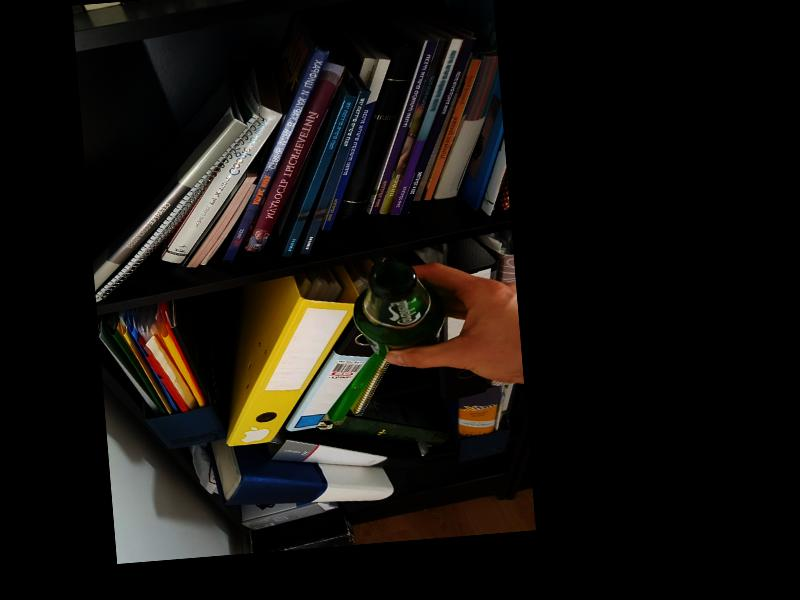Beer: (350, 259, 444, 360)
